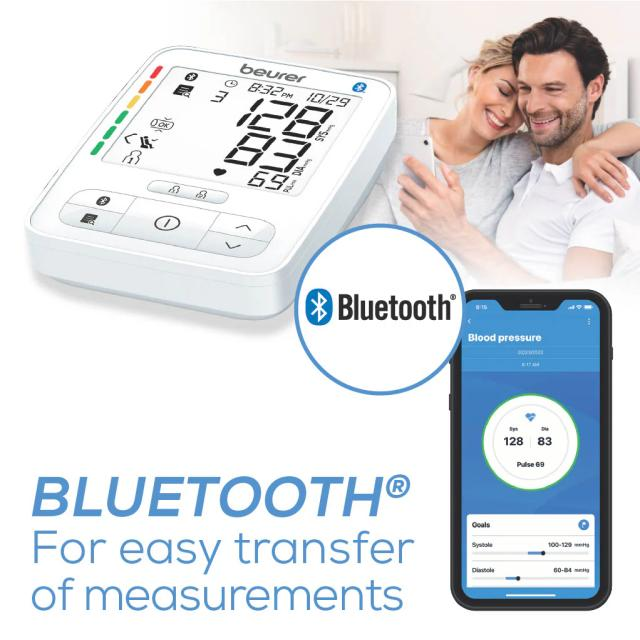dia: (207, 119, 320, 183)
pul: (233, 161, 295, 203)
ssd: (100, 56, 367, 208)
sys: (227, 91, 338, 144)
